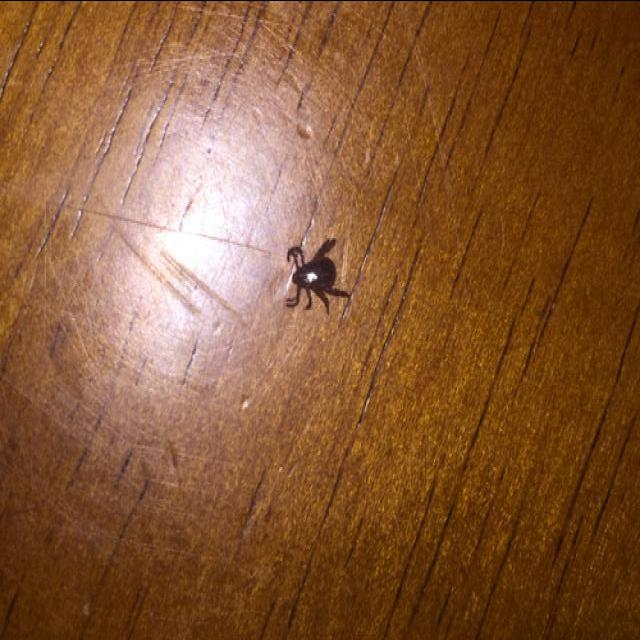Rhipicephalus Sanguineus-M: (280, 237, 351, 317)
